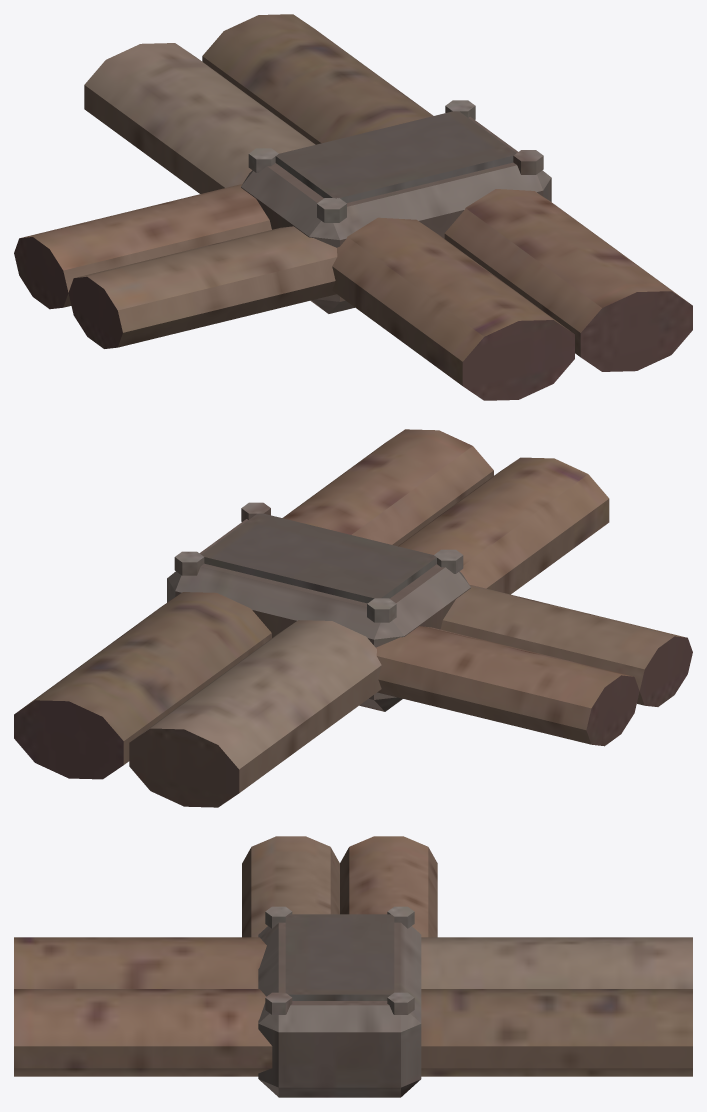
File: heat-pipe-t-left.glb
3 renders of one model, top to bottom at view 1: azimuth 30°, elevation 25°; view 2: azimuth 150°, elevation 25°; view 3: azimuth 270°, elevation 25°, orthographic. The views are drawn at different scales.
Visible parts, largest first — view 1: body; view 2: body; view 3: body.
Boxes of the visible parts, x1=… form: body: x1=14, y1=14, x2=692, y2=400; body: x1=14, y1=429, x2=692, y2=807; body: x1=14, y1=836, x2=692, y2=1097.
Size of the model in its own units: 0.685 by 0.16 by 1.
1 material, 1 textured.
